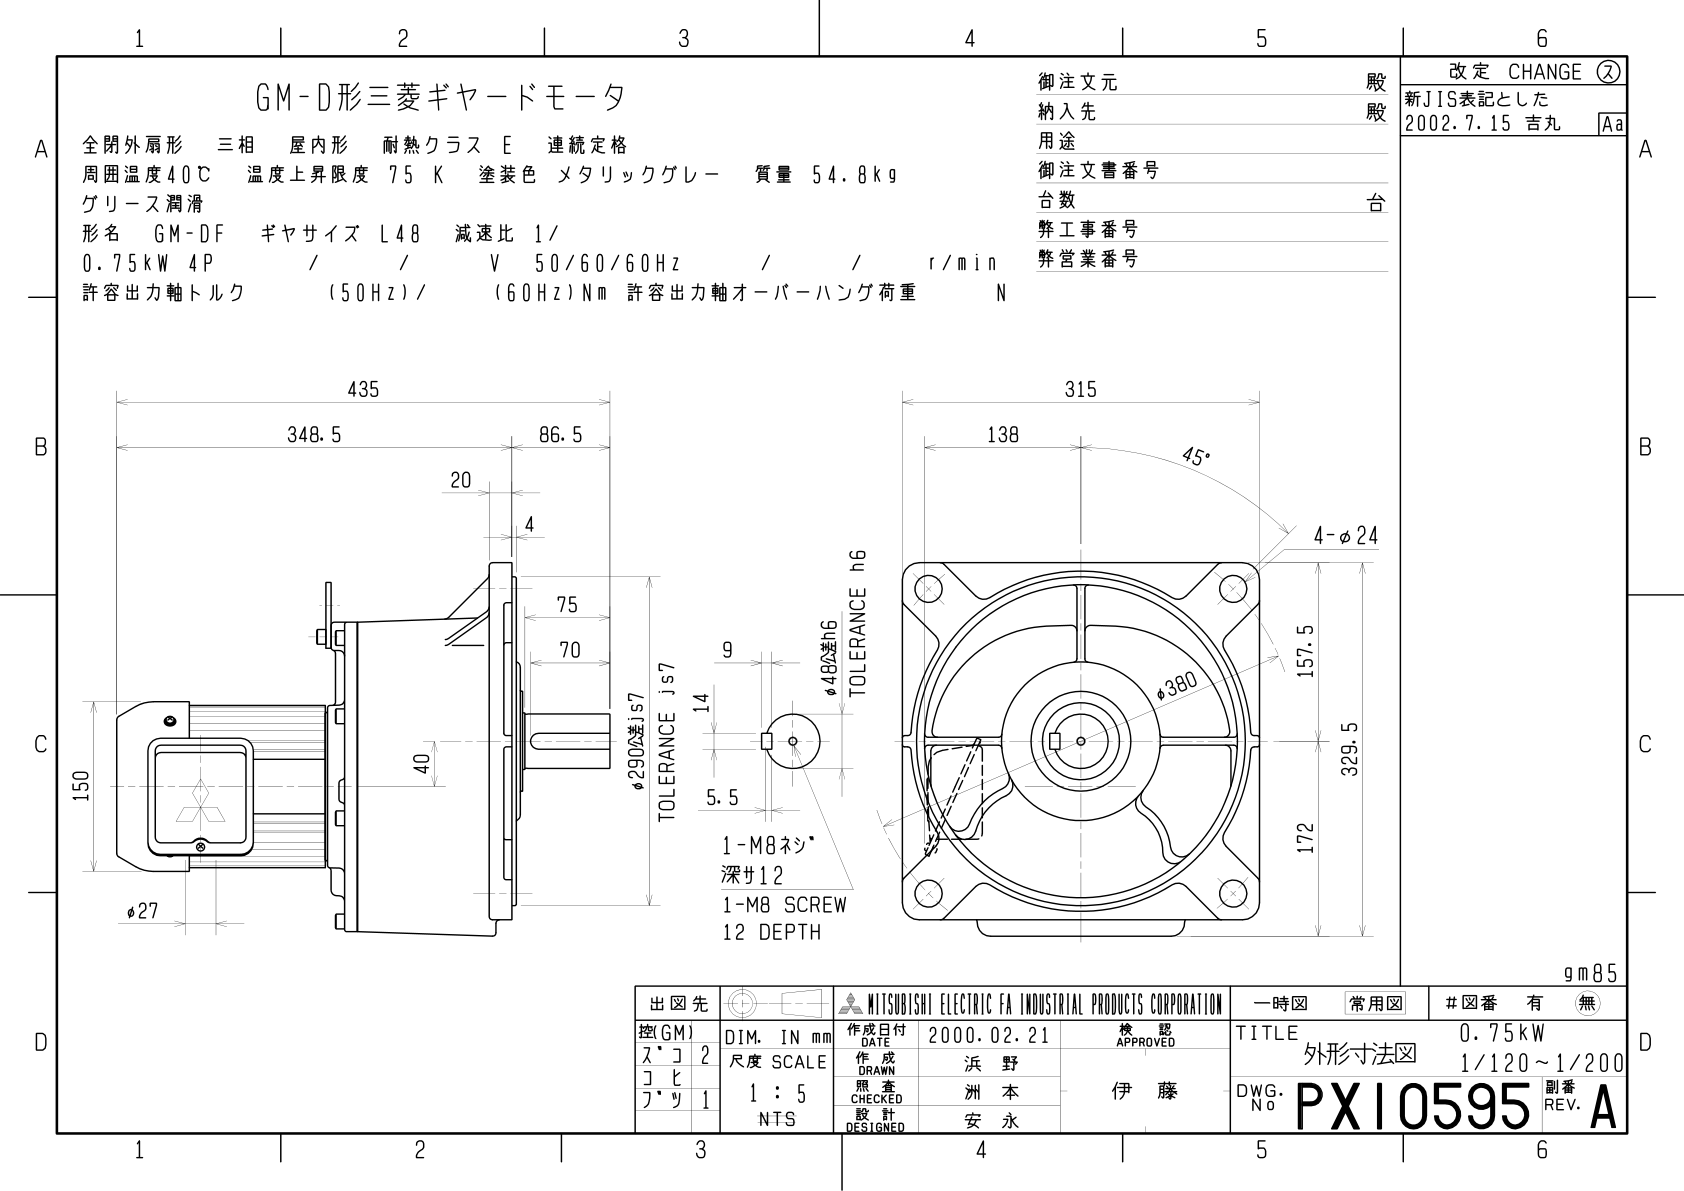GM_D_屋内＿三相_フランジ: (61, 300, 1392, 962)
